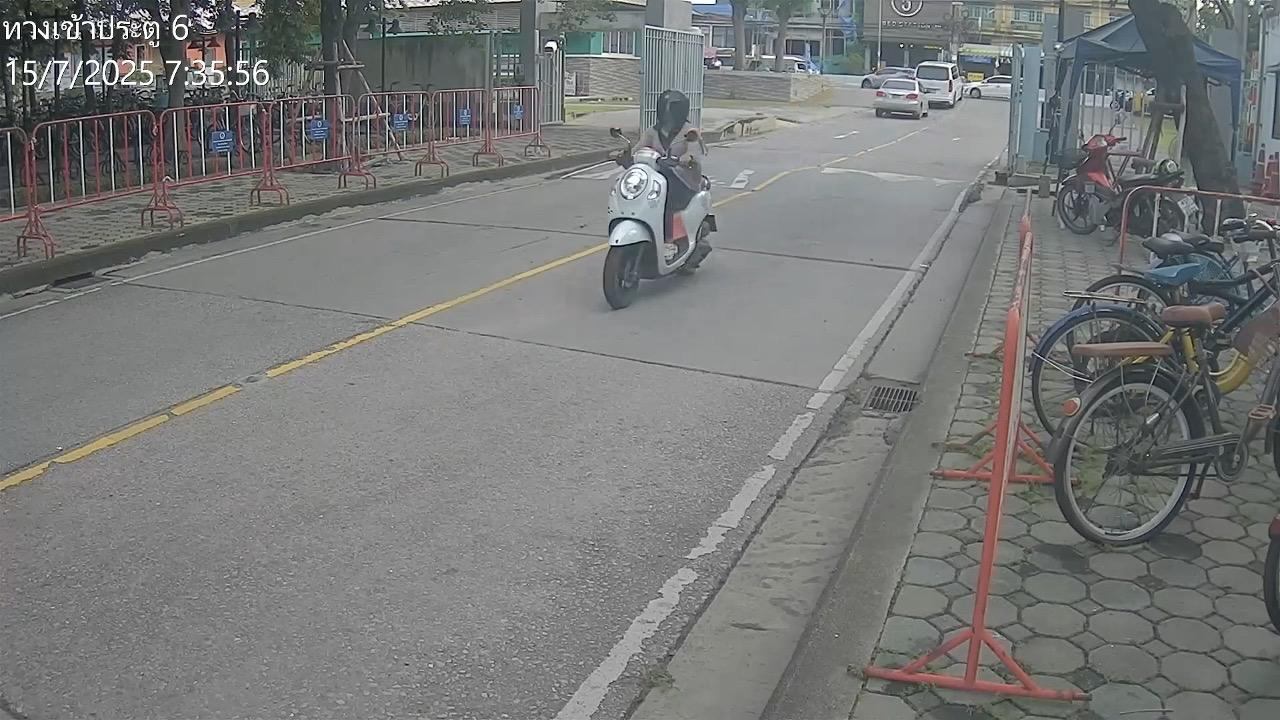With-Helmet: (654, 88, 690, 128)
